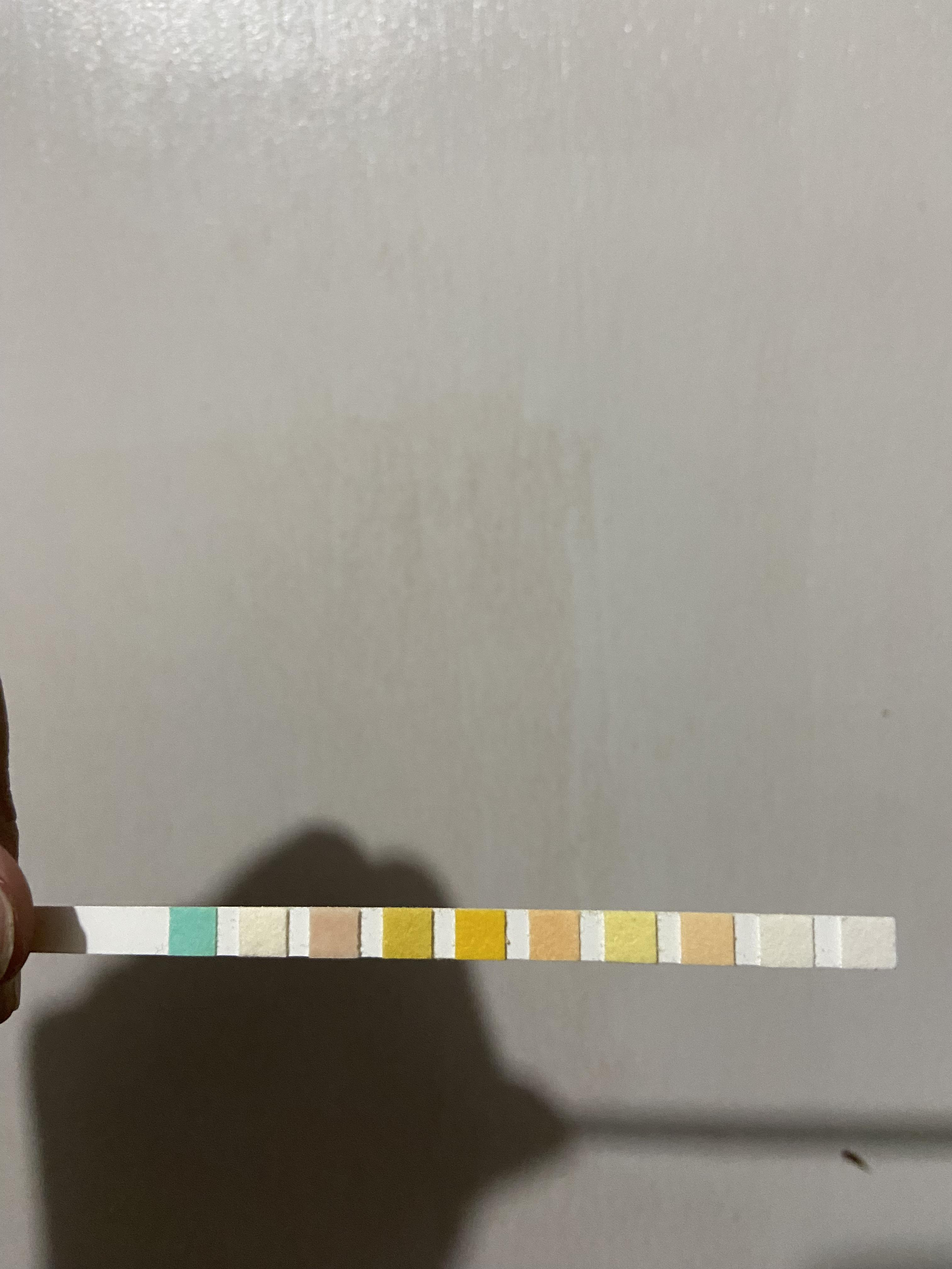Bilirubin: (240, 907, 287, 956)
Blood: (456, 910, 504, 960)
Glucose: (170, 908, 215, 956)
Ketone: (310, 908, 359, 958)
Leukocytes: (843, 918, 894, 968)
Nitrite: (760, 916, 814, 966)
Protein: (606, 911, 655, 962)
SpGravity: (384, 908, 431, 959)
Urobilinogen: (682, 913, 734, 964)
pH: (530, 911, 580, 960)
strip: (40, 908, 897, 969)
